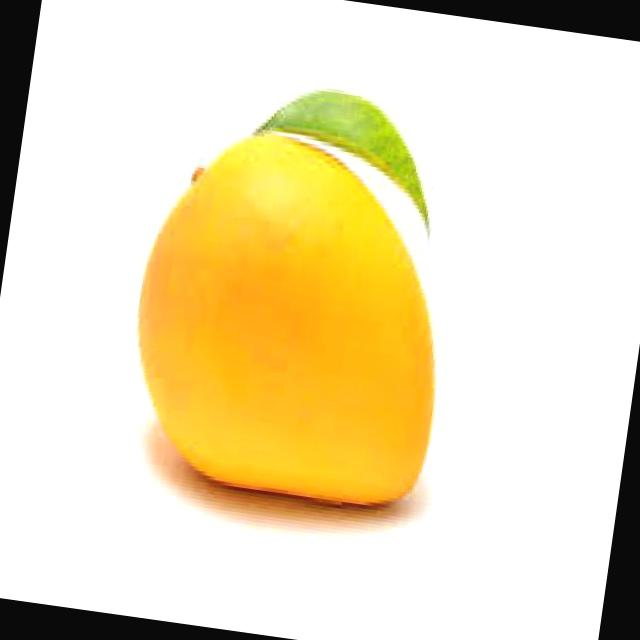Mango: (114, 72, 474, 524)
